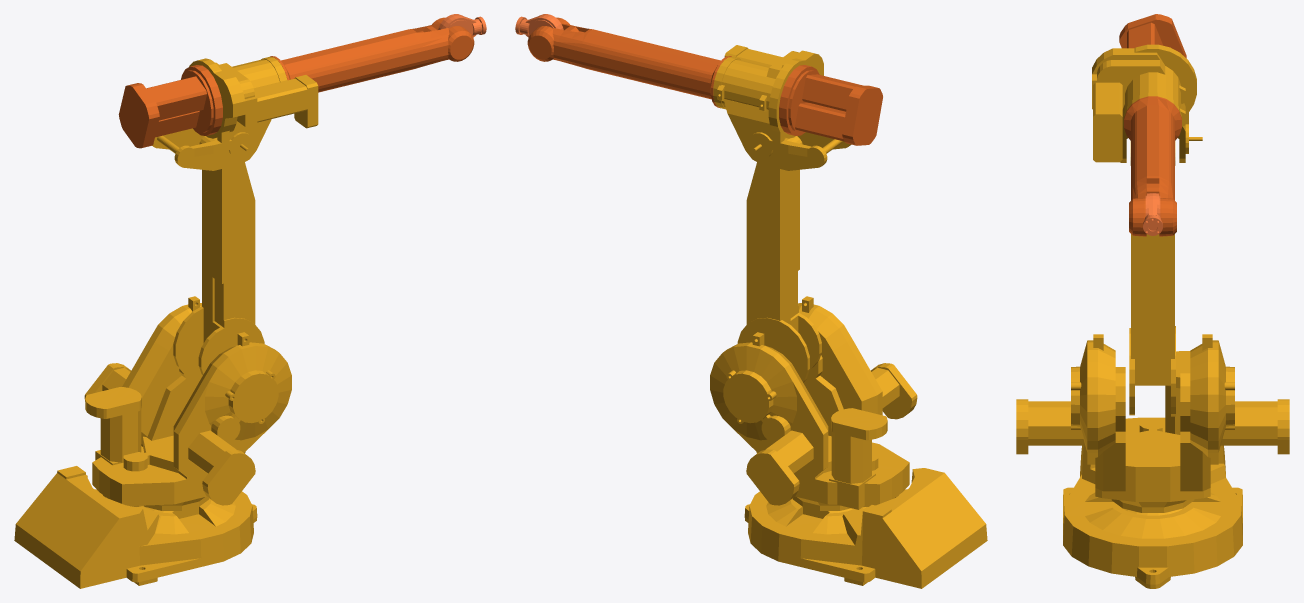
File: 1410_dae7.dae
The picture shows the model from 3 angles, left to right: view 1: azimuth 30°, elevation 25°; view 2: azimuth 150°, elevation 25°; view 3: azimuth 270°, elevation 25°; orthographic projection. The views are drawn at different scales.
Parts seen in each view (by area): view 1: link_1, base_link, link_4, link_2, link_3; view 2: link_1, base_link, link_4, link_2, link_3; view 3: link_1, base_link, link_3, link_4, link_2, link_5.
Part boxes in pixels (x1,y1,x2,y2): link_1: (84,296,291,510); base_link: (14,466,257,588); link_4: (118,17,474,148); link_2: (173,136,264,379); link_3: (152,56,318,170); link_1: (710,296,917,510); base_link: (744,468,987,588); link_4: (527,17,882,145); link_2: (737,136,821,382); link_3: (713,45,851,170); link_1: (1016,334,1289,512); base_link: (1063,445,1242,588); link_3: (1092,44,1202,162); link_4: (1119,14,1186,236); link_2: (1129,141,1175,416); link_5: (1144,193,1161,231).
Bounding box in the file's own units: 1.39 × 0.682 × 1.42.
